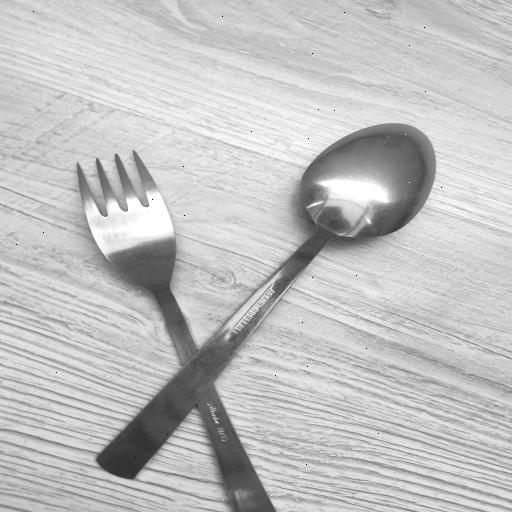fork: (76, 150, 289, 512)
spoon: (97, 119, 433, 476)
